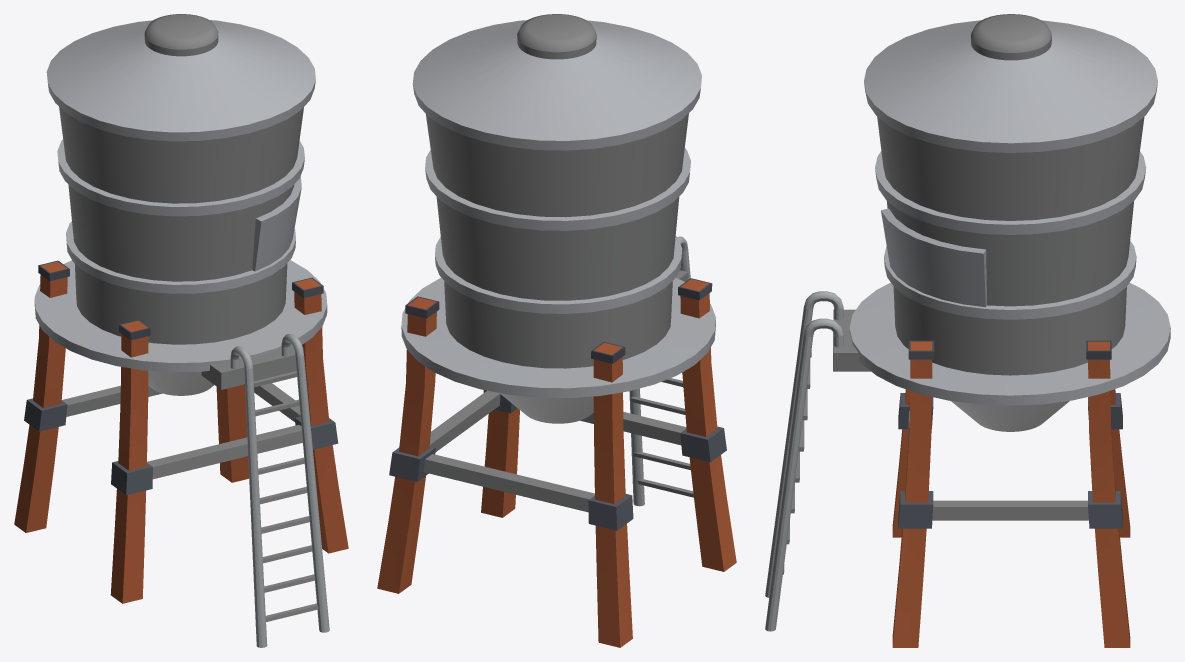
The model's file is SM_Watertower_2.fbx.
3 views of the same model, side by side, from view 1: azimuth 30°, elevation 25°; view 2: azimuth 150°, elevation 25°; view 3: azimuth 270°, elevation 25° (orthographic). The views are drawn at different scales.
Visible parts, largest first — view 1: SM_Watertower_2; view 2: SM_Watertower_2; view 3: SM_Watertower_2.
Boxes of the visible parts, x1=… form: SM_Watertower_2: x1=14, y1=14, x2=348, y2=647; SM_Watertower_2: x1=377, y1=14, x2=736, y2=647; SM_Watertower_2: x1=765, y1=14, x2=1170, y2=647.
Bounding box in the file's own units: 274 × 549 × 346.
